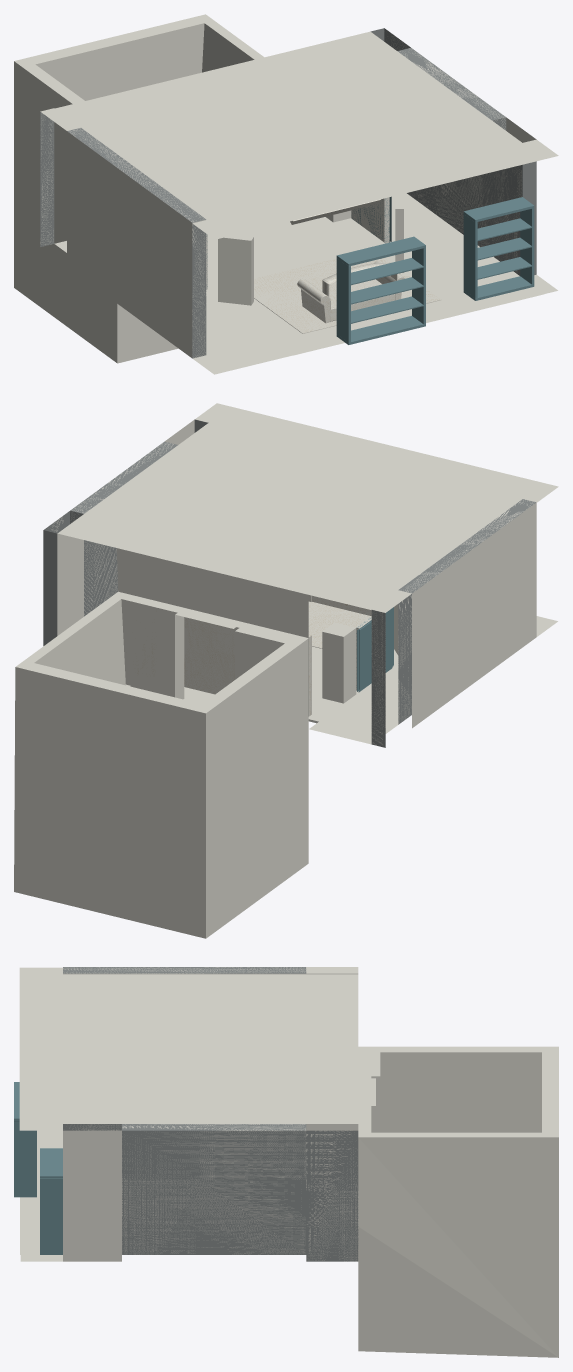
File: city-preview.glb
3 views of the same model, one above another, from view 1: azimuth 30°, elevation 25°; view 2: azimuth 150°, elevation 25°; view 3: azimuth 270°, elevation 25° (orthographic). The views are drawn at different scales.
Bounding box in the file's own units: 6.53 × 4.91 × 9.23.
